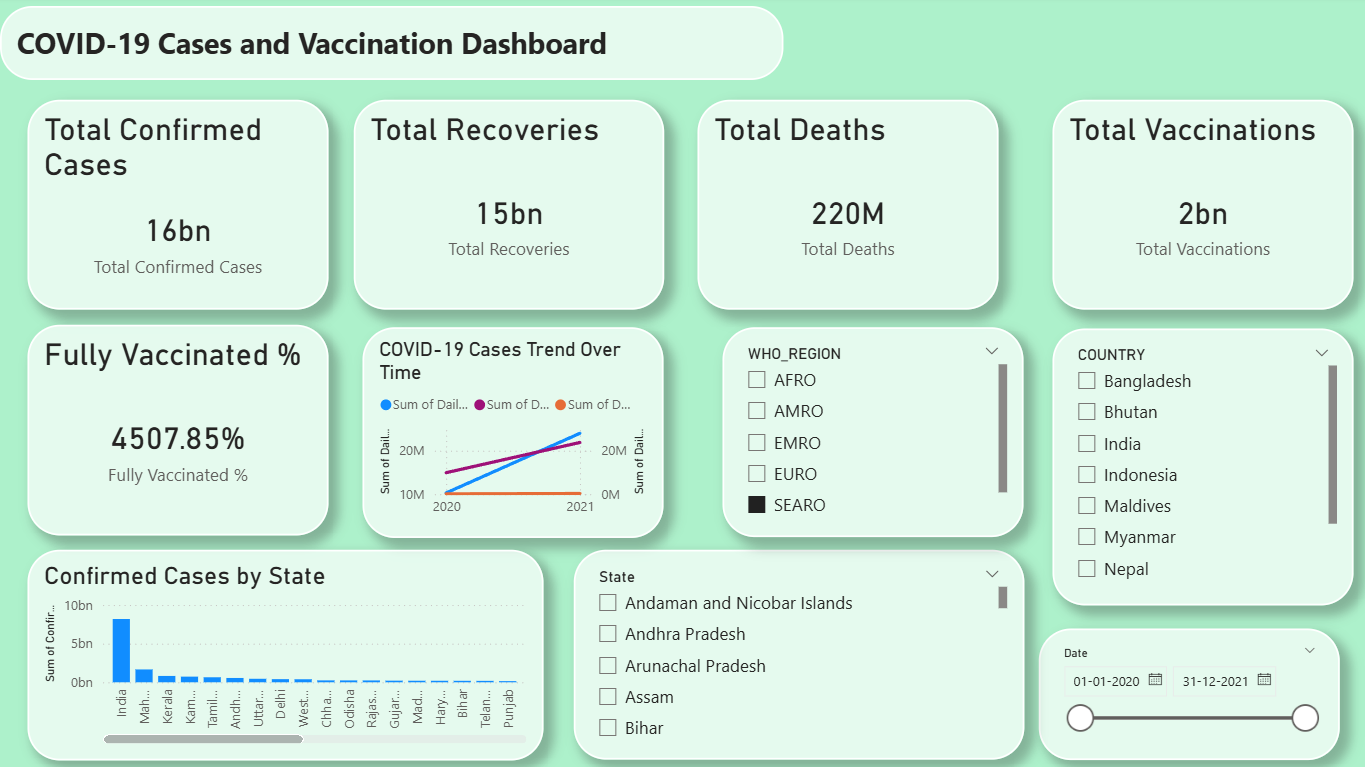

This screenshot's page, from the dashboard's own definition file:
{"tool":"powerbi","page":{"name":"Executive Overview","canvas":[1280,720],"ordinal":0},"visuals":[{"type":"card","title":"Total Confirmed Cases","fields":{"Values":["DateTable.Total Confirmed Cases"]},"box":[25,96.3,280.1,195],"z":0},{"type":"card","title":"Total Recoveries","fields":{"Values":["DateTable.Total Recoveries"]},"box":[328.8,96.3,288.8,195],"z":1000},{"type":"card","title":"Total Deaths","fields":{"Values":["DateTable.Total Deaths"]},"box":[648.9,96.3,280.1,195],"z":2000},{"type":"card","title":"Total Vaccinations","fields":{"Values":["DateTable.Total Vaccinations"]},"box":[978.9,96.3,280.1,195],"z":3000},{"type":"card","title":"Fully Vaccinated %","fields":{"Values":["DateTable.Fully Vaccinated %"]},"box":[25,306.3,280.1,196.3],"z":4000},{"type":"lineChart","title":"COVID-19 Cases Trend Over Time","fields":{"Category":["DateTable.Date.Variation.Date Hierarchy.Year","DateTable.Date.Variation.Date Hierarchy.Quarter","DateTable.Date.Variation.Date Hierarchy.Month","DateTable.Date.Variation.Date Hierarchy.Day"],"Y":["Sum(case_time_series - case_time_series.Daily Confirmed)"],"Y2":["Sum(case_time_series - case_time_series.Daily Recovered)","Sum(case_time_series - case_time_series.Daily Deceased)"]},"box":[337.6,307.6,280.1,196.3],"z":5000},{"type":"clusteredColumnChart","title":"Confirmed Cases by State","fields":{"Category":["raw_data_Indian_states.State"],"Y":["Sum(raw_data_Indian_states.Confirmed)"]},"box":[25,515.1,480.1,196.3],"z":6000},{"type":"slicer","fields":{"Values":["DateTable.Date"]},"box":[966.4,588.9,280.1,122.5],"z":7000},{"type":"slicer","fields":{"Values":["raw_data_Indian_states.State"]},"box":[533.9,515.1,418.8,195],"z":8000},{"type":"slicer","fields":{"Values":["vaccination-data.COUNTRY"]},"box":[978.9,308.8,280.1,257.6],"z":9000},{"type":"slicer","fields":{"Values":["vaccination-data.WHO_REGION"]},"box":[672.6,307.6,280.1,195],"z":10000},{"type":"textbox","box":[0,8.8,728.9,68.8],"z":11000}]}

Visuals, with their boxes in screenshot pixels (x1, y1, x2, y2), scaled from the page's 1280x720 canvas onto the 1365x767 screenshot:
"Total Confirmed Cases" card: box=[27, 103, 325, 310]
"Total Recoveries" card: box=[351, 103, 659, 310]
"Total Deaths" card: box=[692, 103, 991, 310]
"Total Vaccinations" card: box=[1044, 103, 1343, 310]
"Fully Vaccinated %" card: box=[27, 326, 325, 535]
"COVID-19 Cases Trend Over Time" lineChart: box=[360, 328, 659, 537]
"Confirmed Cases by State" clusteredColumnChart: box=[27, 549, 539, 758]
slicer - DateTable.Date: box=[1031, 627, 1329, 758]
slicer - raw_data_Indian_states.State: box=[569, 549, 1016, 756]
slicer - vaccination-data.COUNTRY: box=[1044, 329, 1343, 603]
slicer - vaccination-data.WHO_REGION: box=[717, 328, 1016, 535]
textbox: box=[0, 9, 777, 83]
